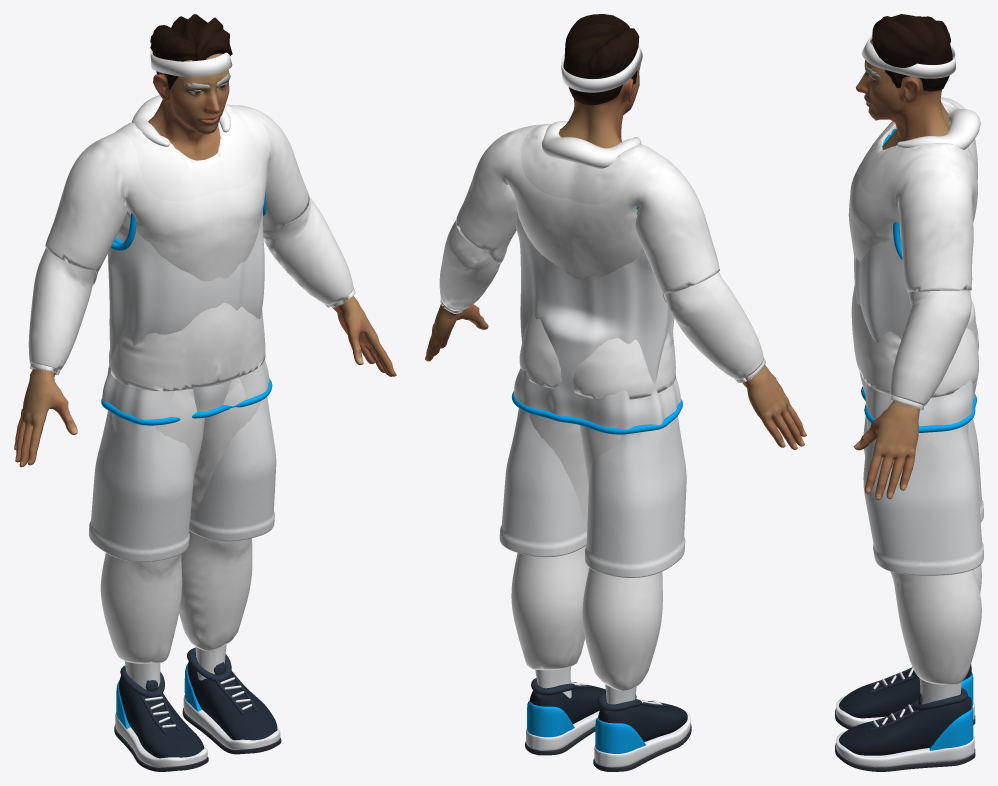
Rendered from fb_regular.glb.
3 renders of one model, left to right at view 1: azimuth 30°, elevation 25°; view 2: azimuth 150°, elevation 25°; view 3: azimuth 270°, elevation 25°, orthographic.
Visible parts, largest first — view 1: GBL_Street_Tee, GBL_Shorts, GBL_Street_Joggers, GBL_Street_Hoodie, GBL_JerseyOut, GBL_RegularMale, GBL_SneakerL, GBL_SneakerR, GBL_Hair, GBL_JerseyOutTrim, GBL_Acc_Headband, GBL_Socks (+1 smaller); view 2: GBL_Street_Tee, GBL_Shorts, GBL_Street_Joggers, GBL_JerseyOut, GBL_Street_Hoodie, GBL_RegularMale, GBL_SneakerR, GBL_Hair, GBL_SneakerL, GBL_Street_HoodieHood, GBL_JerseyOutTrim, GBL_Acc_Headband (+1 smaller); view 3: GBL_Street_Tee, GBL_Shorts, GBL_Street_Hoodie, GBL_Street_Joggers, GBL_RegularMale, GBL_SneakerL, GBL_JerseyOut, GBL_Hair, GBL_SneakerR, GBL_Street_HoodieHood, GBL_Acc_Headband, GBL_JerseyOutTrim (+1 smaller).
Part boxes in pixels (x1,y1,x2,y2): GBL_Street_Tee: (45,105,309,391); GBL_Shorts: (89,397,276,562); GBL_Street_Joggers: (100,377,260,663); GBL_Street_Hoodie: (28,104,353,370); GBL_JerseyOut: (102,210,269,419); GBL_RegularMale: (14,53,396,467); GBL_SneakerL: (182,647,281,754); GBL_SneakerR: (114,665,208,771); GBL_Hair: (150,14,232,89); GBL_JerseyOutTrim: (101,192,272,425); GBL_Acc_Headband: (150,50,232,77); GBL_Socks: (124,644,226,689); GBL_Street_Tee: (456,124,719,399); GBL_Shorts: (499,408,686,577); GBL_Street_Joggers: (511,413,674,690); GBL_JerseyOut: (514,213,680,429); GBL_Street_Hoodie: (439,124,763,379); GBL_RegularMale: (425,66,806,449); GBL_SneakerR: (593,693,691,771); GBL_Hair: (564,14,639,105); GBL_SneakerL: (525,678,606,755); GBL_Street_HoodieHood: (542,121,641,168); GBL_JerseyOutTrim: (511,206,682,434); GBL_Acc_Headband: (561,45,642,92); GBL_Street_Tee: (848,97,978,397); GBL_Shorts: (863,416,983,575); GBL_Street_Hoodie: (860,99,977,405); GBL_Street_Joggers: (865,383,981,684); GBL_RegularMale: (853,40,950,500); GBL_SneakerL: (835,688,975,771); GBL_JerseyOut: (854,129,977,426); GBL_Hair: (871,14,952,91); GBL_SneakerR: (835,664,975,729); GBL_Street_HoodieHood: (897,103,980,149); GBL_Acc_Headband: (861,35,955,78); GBL_JerseyOutTrim: (861,130,977,432).
Size of the model in its own units: 1 by 1.84 by 0.3426.
Materials: 22 (4 with a texture image).
